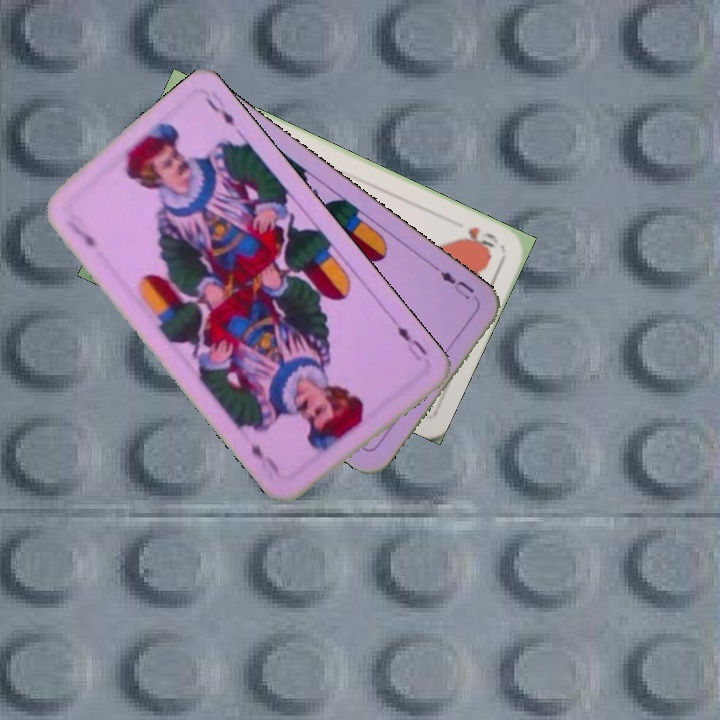EU: (430, 262, 481, 304), (393, 321, 430, 358), (62, 215, 98, 250)
HO: (455, 222, 502, 254)
